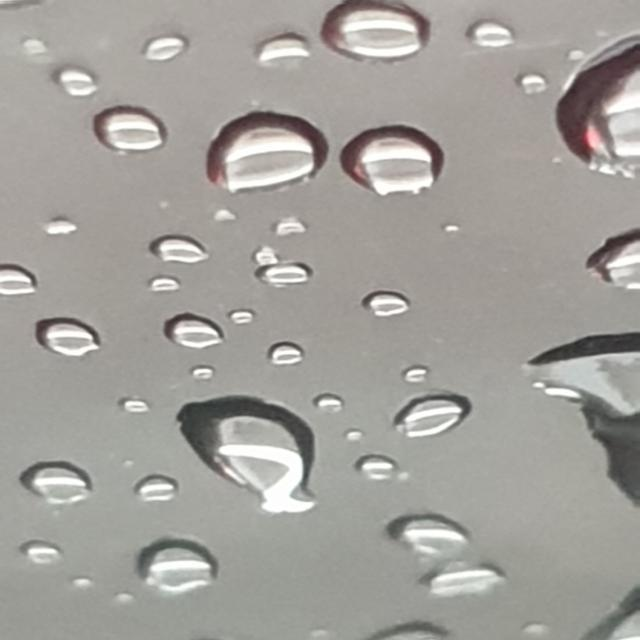raindrop: (170, 393, 343, 519), (506, 322, 640, 443), (545, 28, 640, 194), (194, 102, 333, 202), (341, 105, 466, 200), (312, 0, 434, 71), (78, 92, 184, 168), (374, 500, 494, 566), (122, 538, 235, 600), (561, 222, 640, 300), (2, 452, 108, 510), (8, 308, 112, 366), (20, 54, 105, 119), (409, 560, 557, 596), (380, 392, 472, 445), (246, 22, 324, 79), (349, 282, 436, 330), (328, 440, 412, 488), (242, 256, 334, 298), (454, 10, 530, 60), (158, 311, 236, 356), (0, 26, 63, 79), (136, 234, 222, 270), (0, 532, 73, 574), (123, 474, 198, 514), (126, 26, 190, 72), (373, 353, 446, 393), (374, 611, 470, 640), (252, 339, 325, 375), (99, 383, 152, 432), (257, 210, 335, 242), (40, 201, 92, 246), (308, 383, 369, 421), (0, 251, 39, 306), (184, 350, 228, 390), (44, 566, 95, 599), (230, 239, 292, 266), (223, 294, 273, 326), (518, 62, 546, 105), (206, 198, 247, 226), (146, 274, 188, 300)
